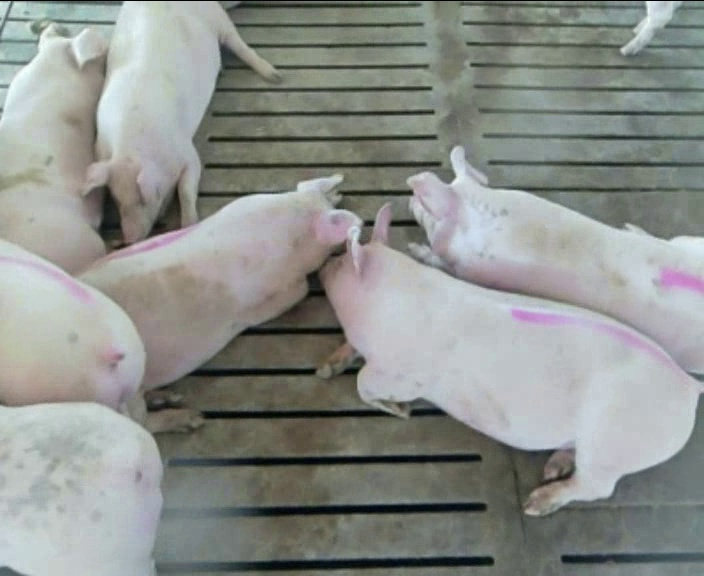pig: (315, 206, 703, 515), (79, 176, 360, 432), (408, 146, 703, 374), (84, 2, 279, 243), (0, 24, 121, 273)
